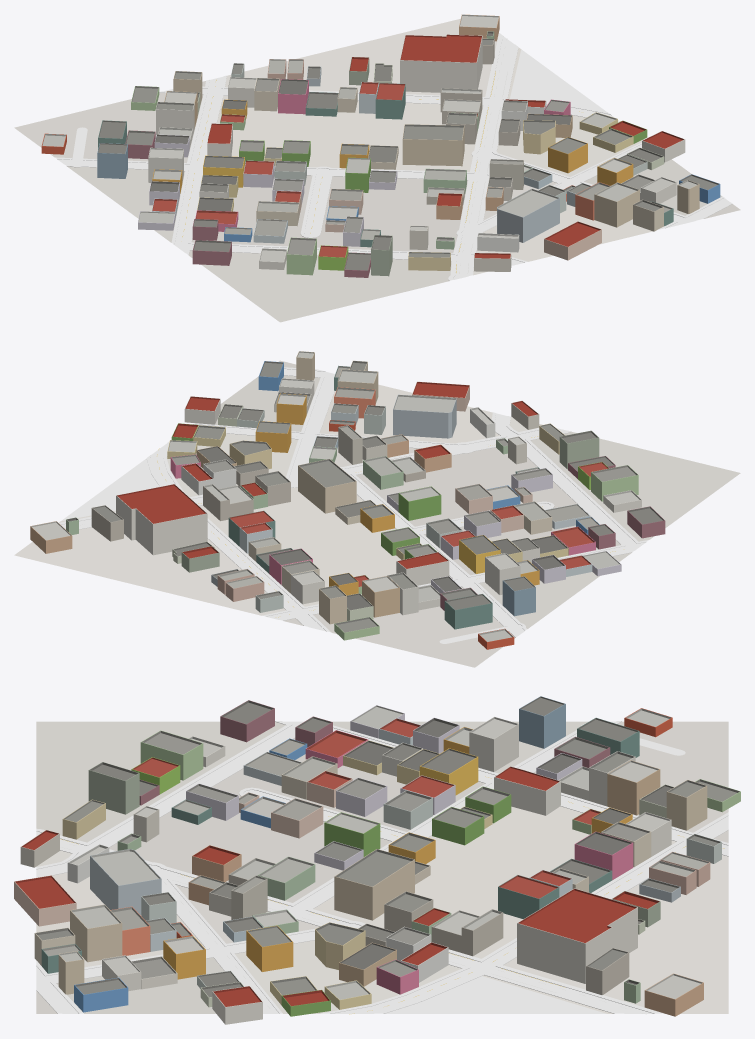
3 views of the same model, one above another, from view 1: azimuth 30°, elevation 25°; view 2: azimuth 150°, elevation 25°; view 3: azimuth 270°, elevation 25° (orthographic). The views are drawn at different scales.
Visible parts, largest first — view 1: walls, ground, roofs, asphalt, sidewalk, grass; view 2: walls, ground, roofs, asphalt, sidewalk, grass; view 3: walls, roofs, ground, asphalt, sidewalk, grass.
Boxes of the visible parts, x1,y1,x2,y2 form: walls: [41, 17, 720, 277]; ground: [14, 19, 740, 322]; roofs: [41, 14, 719, 270]; asphalt: [57, 36, 730, 279]; sidewalk: [55, 33, 732, 280]; grass: [510, 49, 606, 111]; walls: [30, 353, 665, 649]; ground: [14, 360, 740, 667]; roofs: [30, 351, 664, 642]; asphalt: [61, 369, 645, 643]; sidewalk: [59, 367, 648, 637]; grass: [61, 458, 159, 521]; walls: [14, 704, 740, 1024]; roofs: [14, 696, 740, 1007]; ground: [36, 721, 728, 1013]; asphalt: [36, 721, 728, 1013]; sidewalk: [36, 721, 728, 1013]; grass: [384, 976, 606, 1013].
Size of what is drawn, in the model's own units: 265 by 16.17 by 263.
